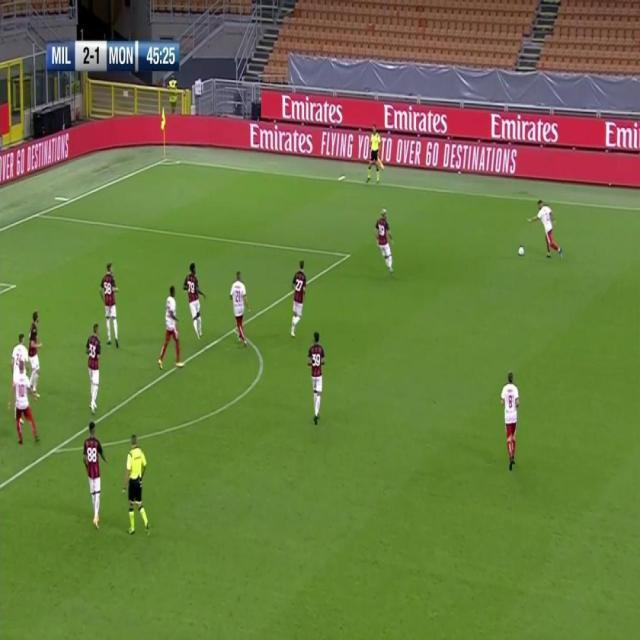ball: (517, 243, 525, 257)
player: (83, 418, 109, 532), (157, 285, 185, 372), (527, 198, 565, 260), (13, 359, 40, 446), (501, 369, 521, 471), (99, 260, 121, 350), (307, 329, 327, 427), (184, 262, 208, 340), (289, 258, 309, 342), (230, 271, 251, 349), (86, 320, 103, 416), (374, 206, 397, 276), (28, 309, 44, 403), (12, 333, 28, 366)
referee: (124, 431, 153, 539), (366, 122, 385, 187)
